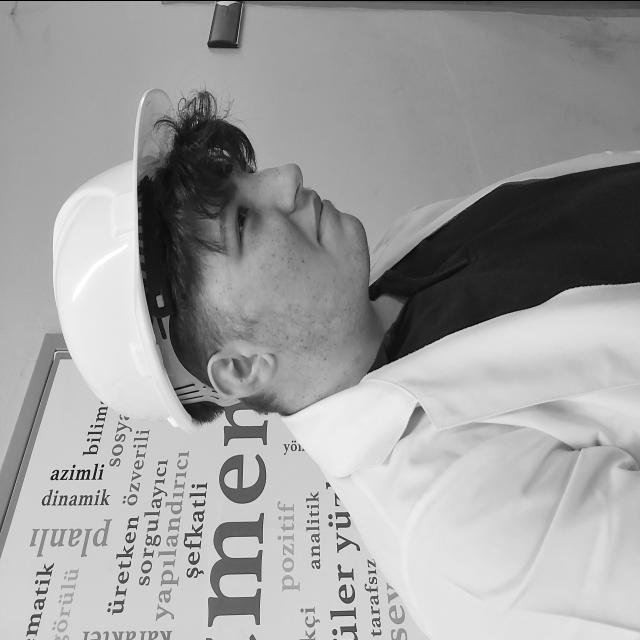safety_helmet: (52, 87, 228, 429)
